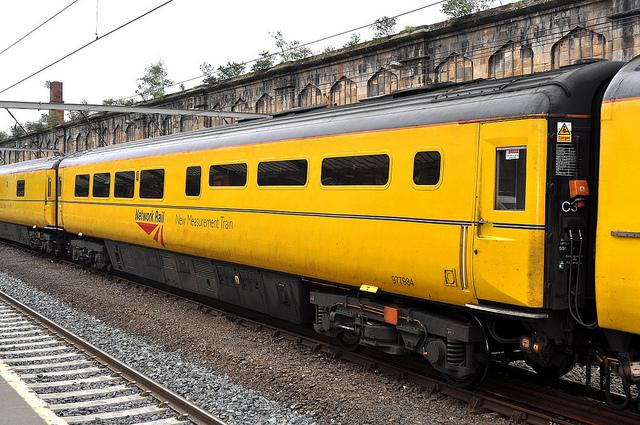Train: (0, 51, 640, 409)
